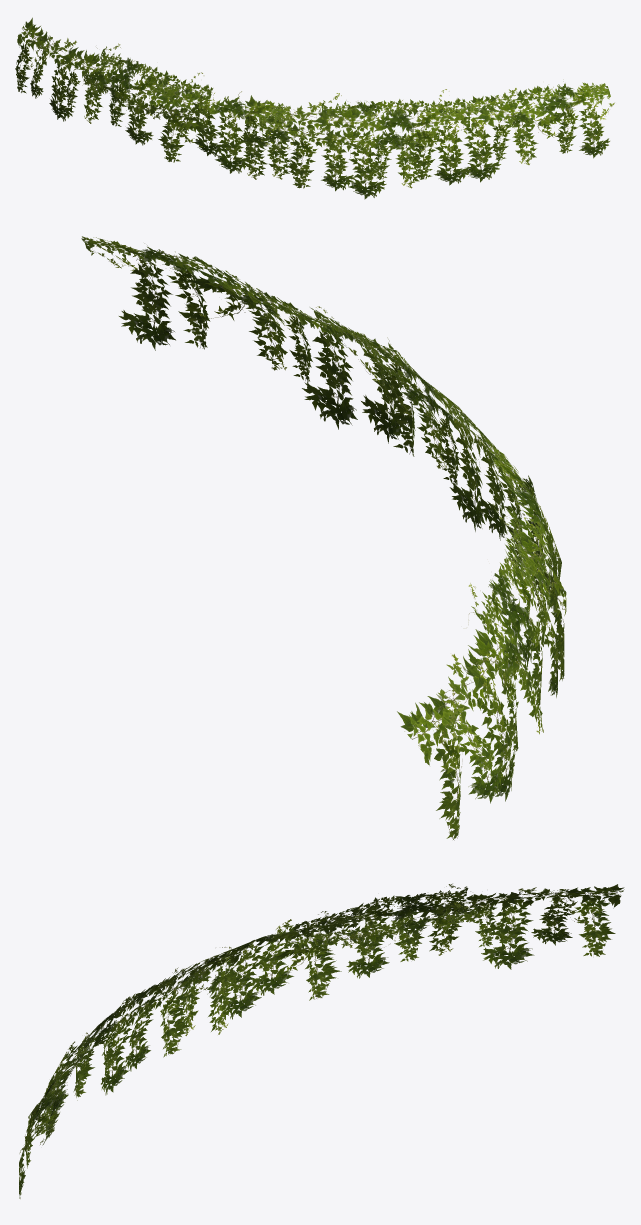
The model's file is Pp_Ms_Plants_Curve.fbx.
3 views of the same model, one above another, from view 1: azimuth 30°, elevation 25°; view 2: azimuth 150°, elevation 25°; view 3: azimuth 270°, elevation 25° (orthographic). The views are drawn at different scales.
Parts seen in each view (by area): view 1: Plane029; view 2: Plane029; view 3: Plane029.
Boxes of the visible parts, x1,y1,x2,y2 form: Plane029: (15, 17, 614, 199); Plane029: (81, 236, 566, 840); Plane029: (19, 883, 624, 1198).
Bounding box in the file's own units: 648 × 154 × 638.
1 material, 1 textured.
